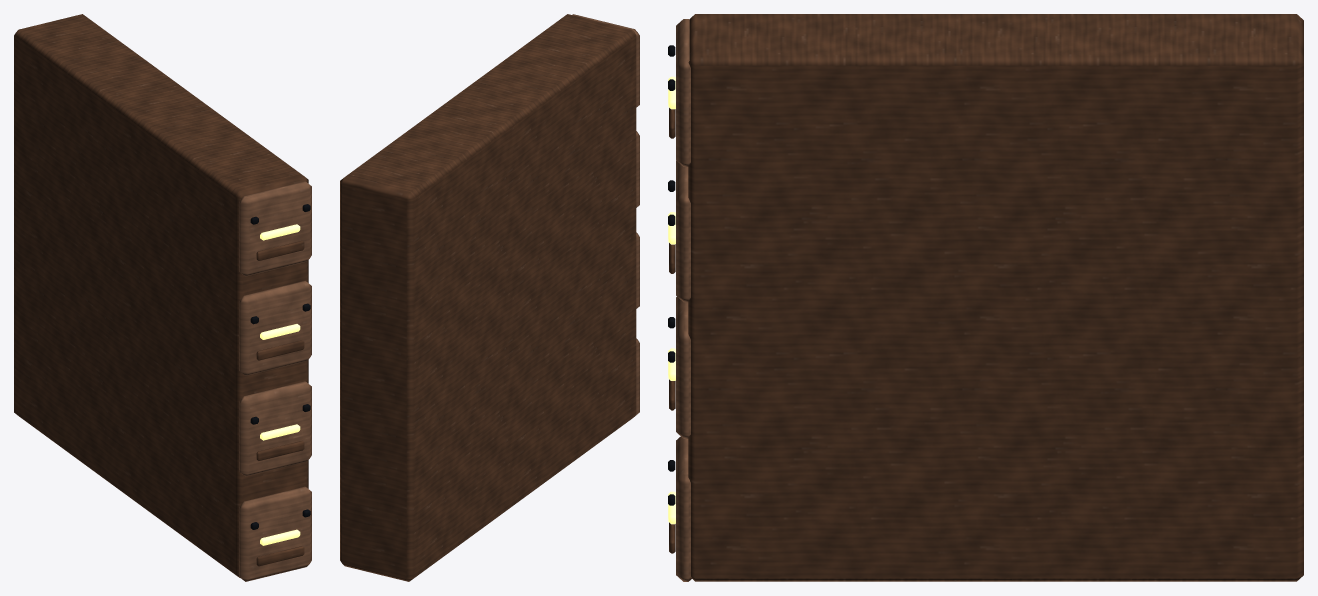
File: buried_archives_wall.glb
3 renders of one model, left to right at view 1: azimuth 30°, elevation 25°; view 2: azimuth 150°, elevation 25°; view 3: azimuth 270°, elevation 25°, orthographic. The views are drawn at different scales.
Parts seen in each view (by area): view 1: buried_archives_wall - buried_archives panels, buried_archives_wall - buried_archives trim, buried_archives_wall - buried_archives accents, buried_archives_wall - Recessed iron; view 2: buried_archives_wall - buried_archives panels, buried_archives_wall - buried_archives trim; view 3: buried_archives_wall - buried_archives panels, buried_archives_wall - buried_archives trim.
Boxes of the visible parts, box(x1,y1,x2,y2) form: buried_archives_wall - buried_archives panels: box(14, 14, 308, 577); buried_archives_wall - buried_archives trim: box(239, 181, 311, 581); buried_archives_wall - buried_archives accents: box(260, 224, 300, 545); buried_archives_wall - Recessed iron: box(250, 204, 310, 529); buried_archives_wall - buried_archives panels: box(340, 14, 636, 581); buried_archives_wall - buried_archives trim: box(572, 14, 639, 414); buried_archives_wall - buried_archives panels: box(669, 14, 1303, 581); buried_archives_wall - buried_archives trim: box(676, 19, 691, 581).
Bounding box in the file's own units: 0.79 × 4.01 × 4.39.
Materials: 4 (3 with a texture image).
